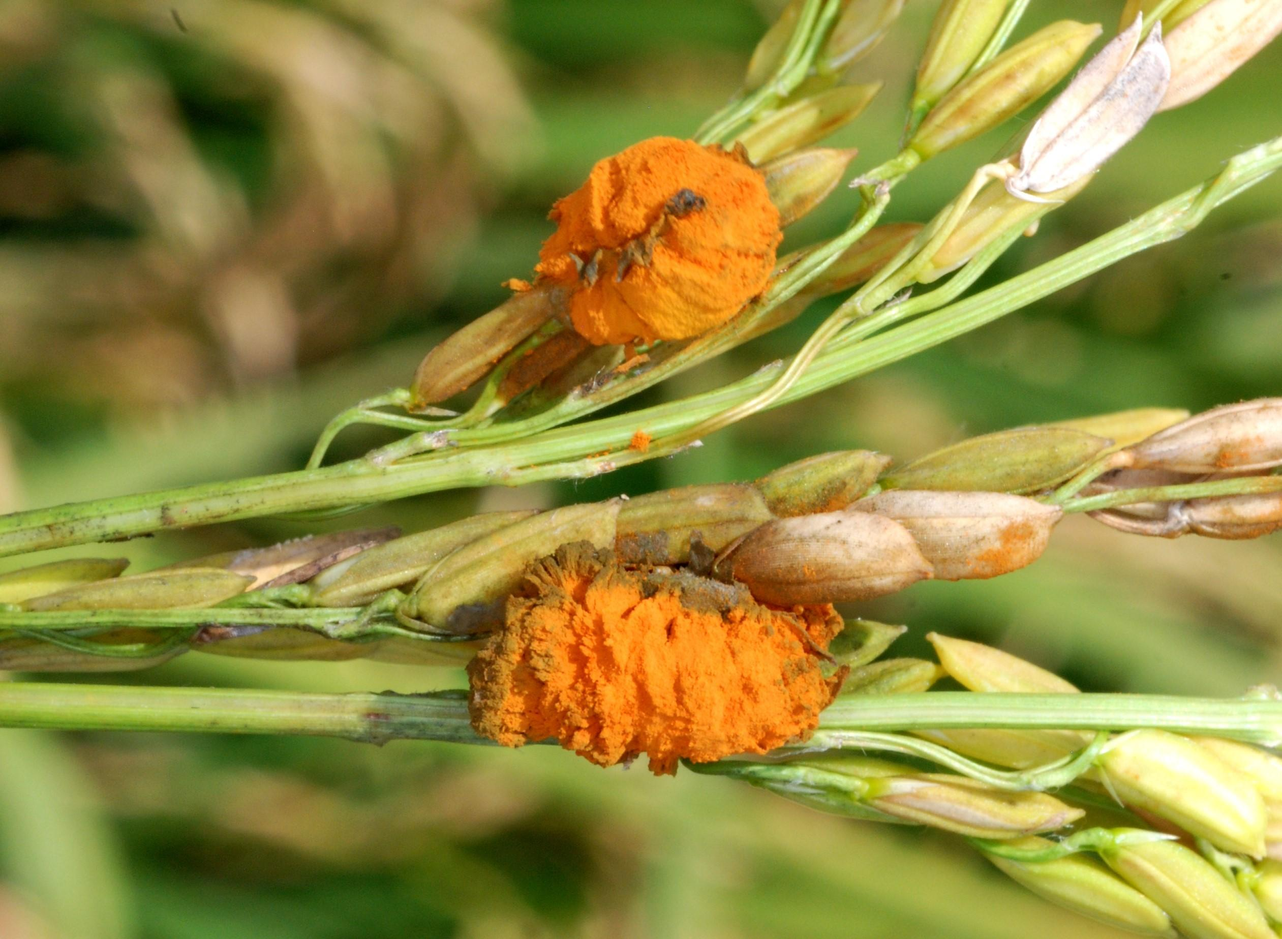False Smut: (463, 541, 872, 801), (516, 119, 788, 366)
